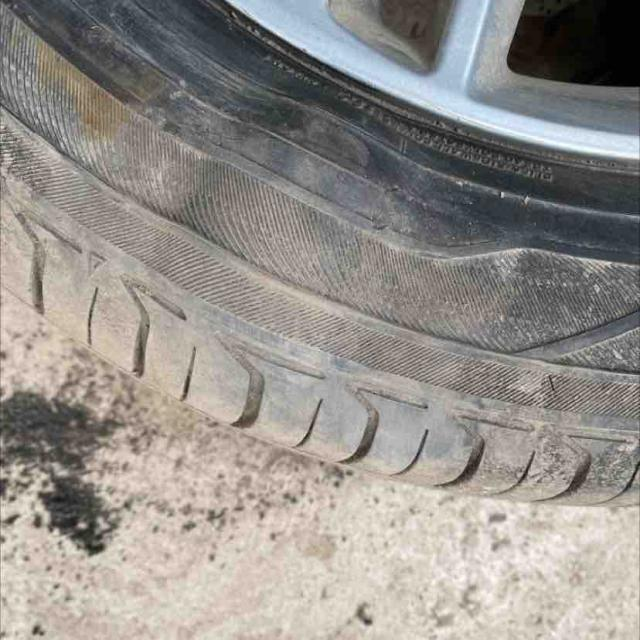Bulge: (172, 100, 400, 319)
